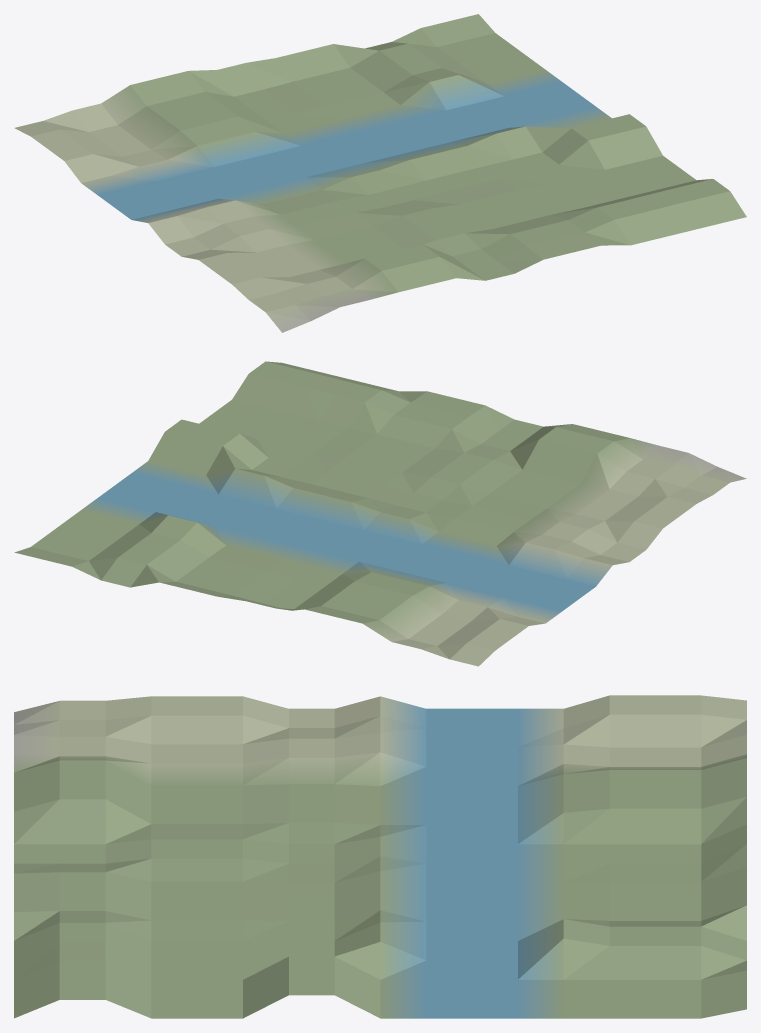
3 views of the same model, one above another, from view 1: azimuth 30°, elevation 25°; view 2: azimuth 150°, elevation 25°; view 3: azimuth 270°, elevation 25° (orthographic). The views are drawn at different scales.
Bounding box in the file's own units: 32 × 1.53 × 32.
